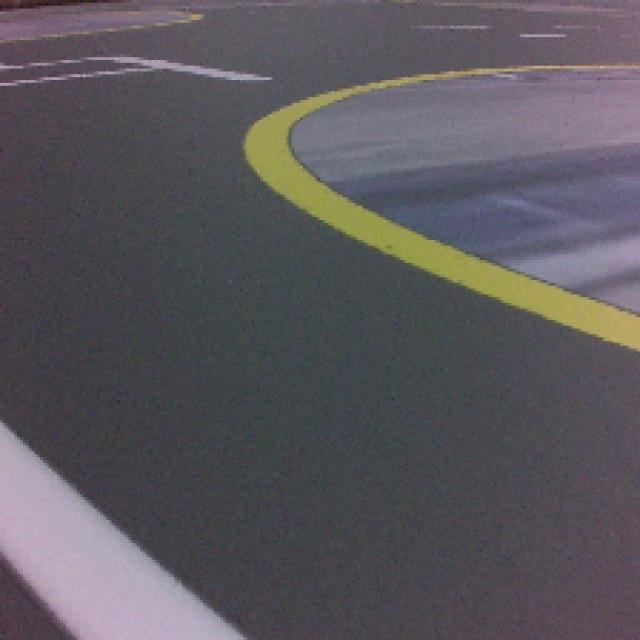Pedestrian crosswalk: (0, 412, 247, 640)
